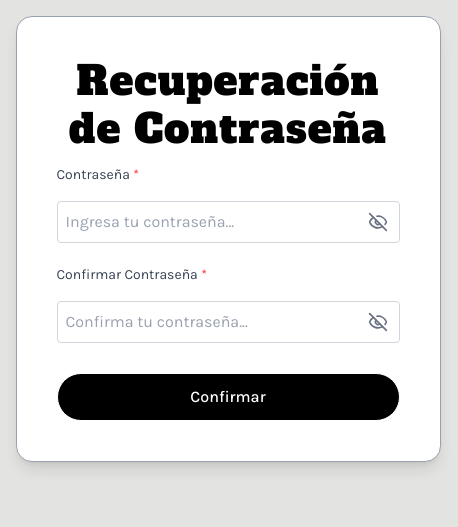
Test: ResetPage › muestra error si no se ingresan datos
The image size is (458, 527).
What coordinates should you click on to do the following:
click the button "Confirmar"
I would click on:
 (228, 397)
Its box is [56,373,400,421].
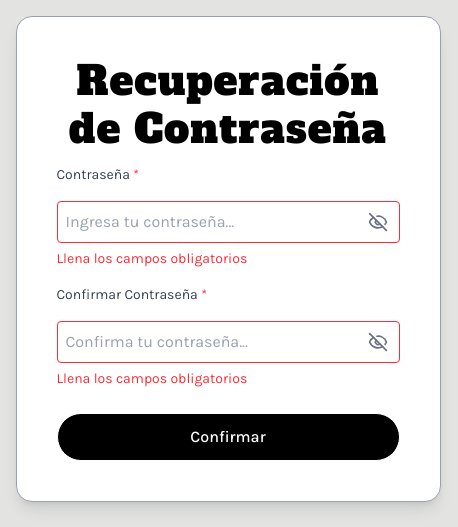
expect the text "Llena los campos obligatorios" is shown 2 times: met, box [56,249,247,269]; [56,369,247,389]
